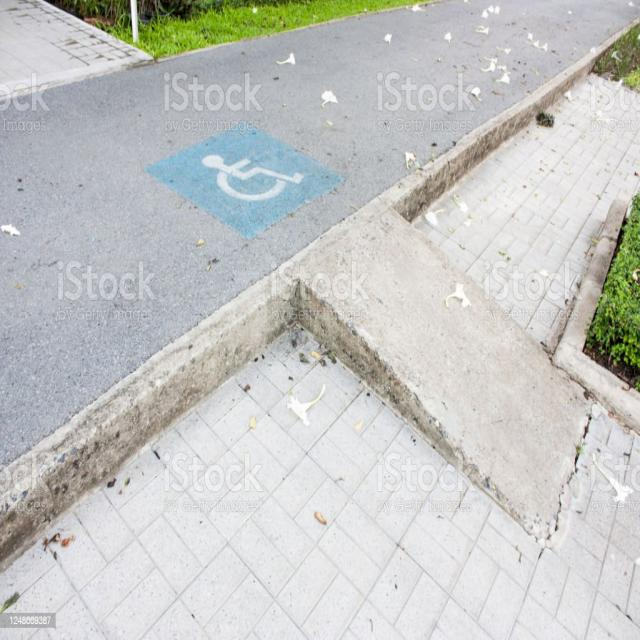CLIMB: (293, 201, 594, 536)
